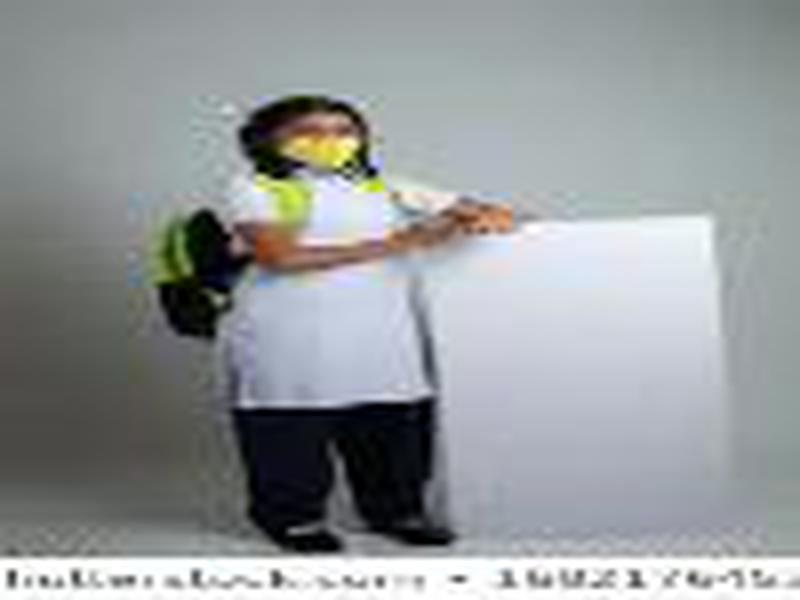with_mask: (239, 96, 370, 182)
